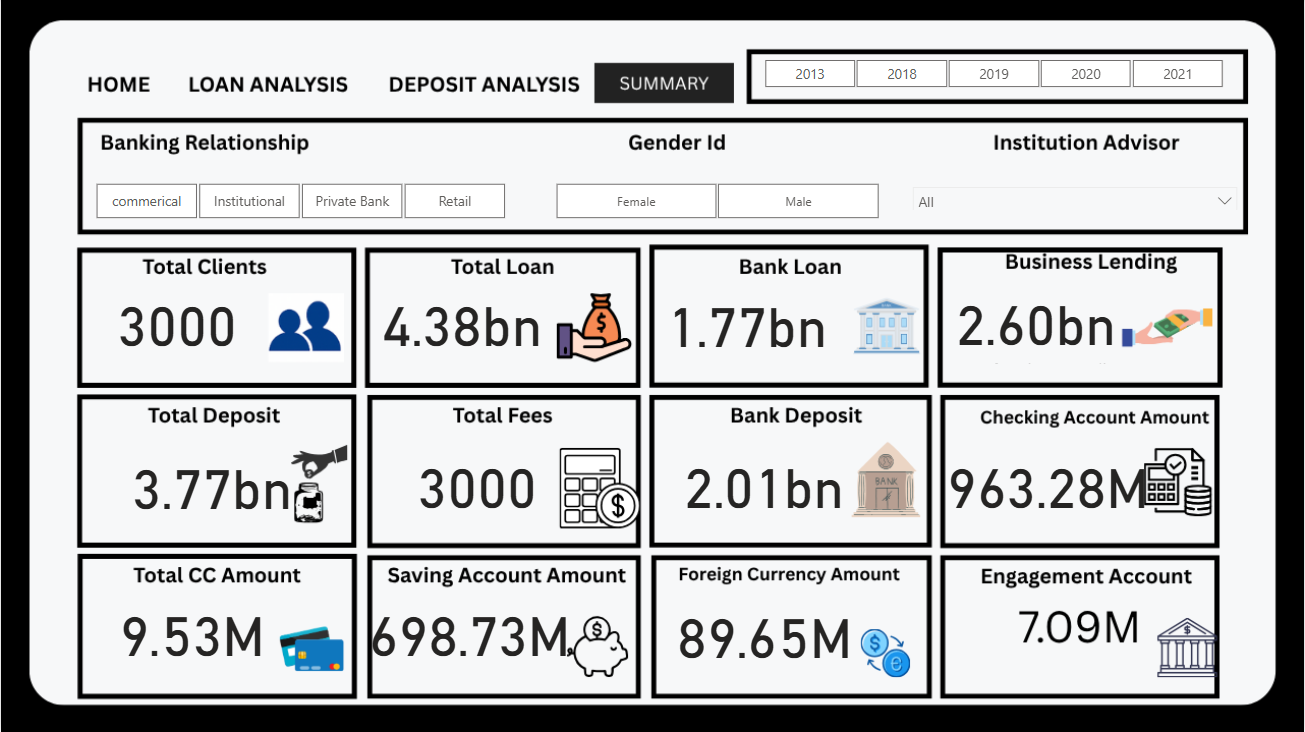

The dashboard page shown, as its layout file describes it:
{"tool":"powerbi","page":{"name":"Summary","canvas":[1280,720],"ordinal":3},"visuals":[{"type":"card","fields":{"Values":["CountNonNull(banking_case customer.Name)"]},"box":[32.9,288.2,279.9,75.5],"z":0},{"type":"card","fields":{"Values":["banking_case customer.Total loans"]},"box":[312.9,288.2,279.9,75.5],"z":1},{"type":"card","fields":{"Values":["Sum(banking_case customer.Bank Loans)"]},"box":[592.8,289.5,279.9,74.1],"z":2},{"type":"card","fields":{"Values":["Sum(banking_case customer.Business Lending)"]},"box":[875.5,286.8,279.9,75.5],"z":3},{"type":"card","fields":{"Values":["Sum(banking_case customer.Checking Accounts)"]},"box":[898.8,447.3,256.6,74.1],"z":4},{"type":"card","fields":{"Values":["Sum(banking_case customer.Bank Deposits)"]},"box":[609.3,447.3,278.6,74.1],"z":5},{"type":"card","fields":{"Values":["CountNonNull(banking_case customer.Fee Structure)"]},"box":[328,447.3,279.9,74.1],"z":6},{"type":"card","fields":{"Values":["banking_case customer.Total deposite"]},"box":[67.2,447.3,279.9,75.5],"z":7},{"type":"card","fields":{"Values":["Sum(banking_case customer.Credit Card Balance)"]},"box":[48,592.8,279.9,75.5],"z":8},{"type":"card","fields":{"Values":["Sum(banking_case customer.Saving Accounts)"]},"box":[328,592.8,264.8,75.5],"z":9},{"type":"card","fields":{"Values":["Sum(banking_case customer.Foreign Currency Account)"]},"box":[609.3,594.2,279.9,75.5],"z":10},{"type":"slicer","fields":{"Values":["banking_case customer.Year of joining"]},"box":[723.9,52.8,499.4,38],"z":11},{"type":"slicer","fields":{"Values":["banking_case customer.BRId"]},"box":[67.2,174.3,451.5,48],"z":12},{"type":"slicer","fields":{"Values":["banking_case customer.GenderId"]},"box":[518.7,174.3,366.4,48],"z":13},{"type":"slicer","fields":{"Values":["banking_case customer.IAId"]},"box":[885.1,174.3,338.9,32.9],"z":14},{"type":"actionButton","box":[67.2,61.7,100.2,39.8],"z":15},{"type":"actionButton","box":[167.4,61.7,189.4,39.8],"z":16},{"type":"actionButton","box":[360.9,61.7,212.7,39.8],"z":17}]}

Visuals, with their boxes in screenshot pixels (x1, y1, x2, y2), scaled from the page's 1280x720 canvas onto the 1305x732 screenshot:
card - CountNonNull(banking_case customer.Name): 34:293:319:370
card - banking_case customer.Total loans: 319:293:604:370
card - Sum(banking_case customer.Bank Loans): 604:294:890:370
card - Sum(banking_case customer.Business Lending): 893:292:1178:368
card - Sum(banking_case customer.Checking Accounts): 916:455:1178:530
card - Sum(banking_case customer.Bank Deposits): 621:455:905:530
card - CountNonNull(banking_case customer.Fee Structure): 334:455:620:530
card - banking_case customer.Total deposite: 69:455:354:532
card - Sum(banking_case customer.Credit Card Balance): 49:603:334:679
card - Sum(banking_case customer.Saving Accounts): 334:603:604:679
card - Sum(banking_case customer.Foreign Currency Account): 621:604:907:681
slicer - banking_case customer.Year of joining: 738:54:1247:92
slicer - banking_case customer.BRId: 69:177:529:226
slicer - banking_case customer.GenderId: 529:177:902:226
slicer - banking_case customer.IAId: 902:177:1248:211
actionButton: 69:63:171:103
actionButton: 171:63:364:103
actionButton: 368:63:585:103
